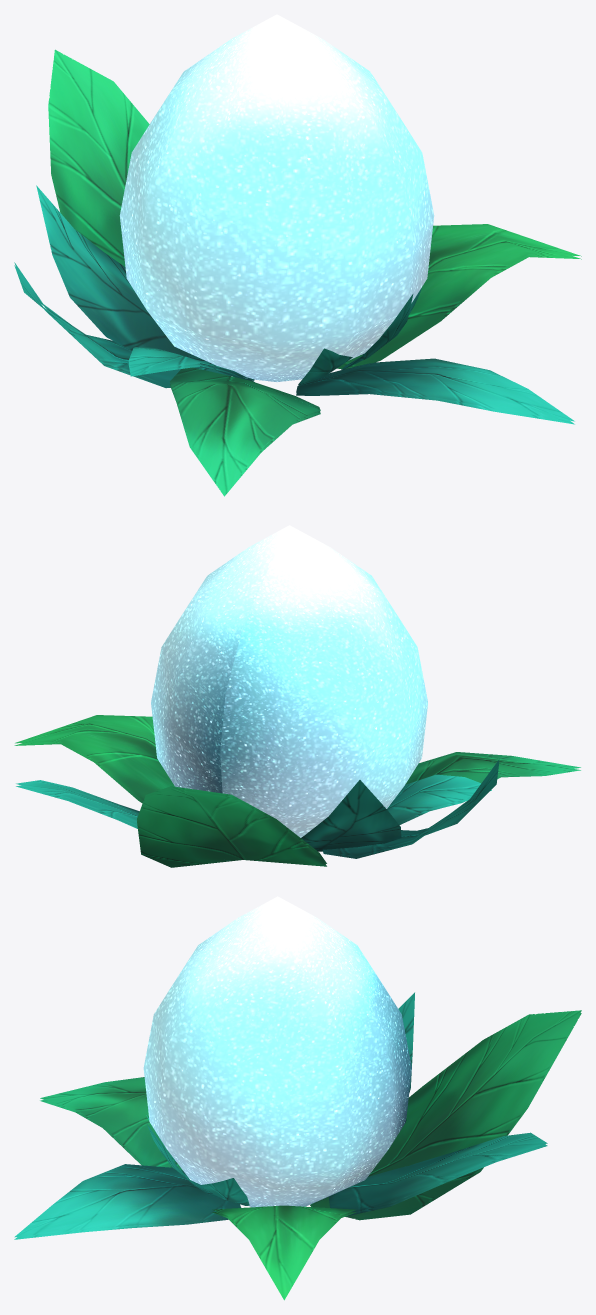
File: ballPlant.dae
The picture shows the model from 3 angles, top to bottom: view 1: azimuth 30°, elevation 25°; view 2: azimuth 150°, elevation 25°; view 3: azimuth 270°, elevation 25°; orthographic projection. The views are drawn at different scales.
Parts seen in each view (by area): view 1: ballsPlant_polySurface2; view 2: ballsPlant_polySurface2; view 3: ballsPlant_polySurface2.
Boxes of the visible parts, left/top/right/bottom form: ballsPlant_polySurface2: left=14, top=14, right=581, bottom=496; ballsPlant_polySurface2: left=14, top=525, right=580, bottom=867; ballsPlant_polySurface2: left=14, top=896, right=581, bottom=1300.
Size of the model in its own units: 4.54 by 2.8 by 4.68.
